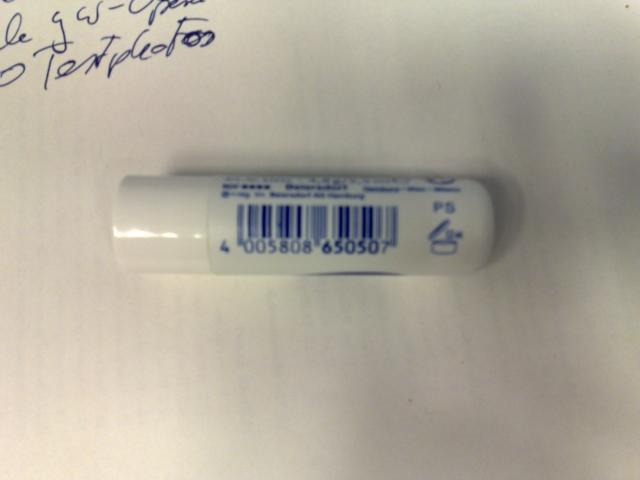Barkod: (234, 205, 400, 241)
